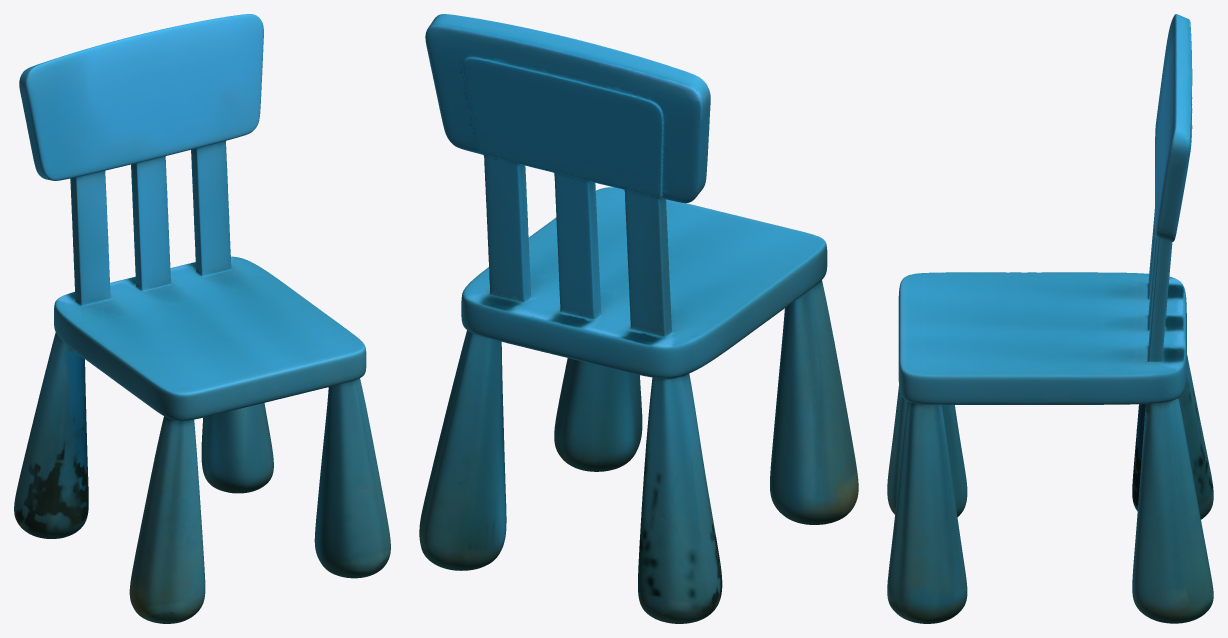
The model's file is chair.glb.
3 renders of one model, left to right at view 1: azimuth 30°, elevation 25°; view 2: azimuth 150°, elevation 25°; view 3: azimuth 270°, elevation 25°, orthographic. The views are drawn at different scales.
Bounding box in the file's own units: 1.05 × 1.9 × 1.12.
Materials: 1 (1 with a texture image).
